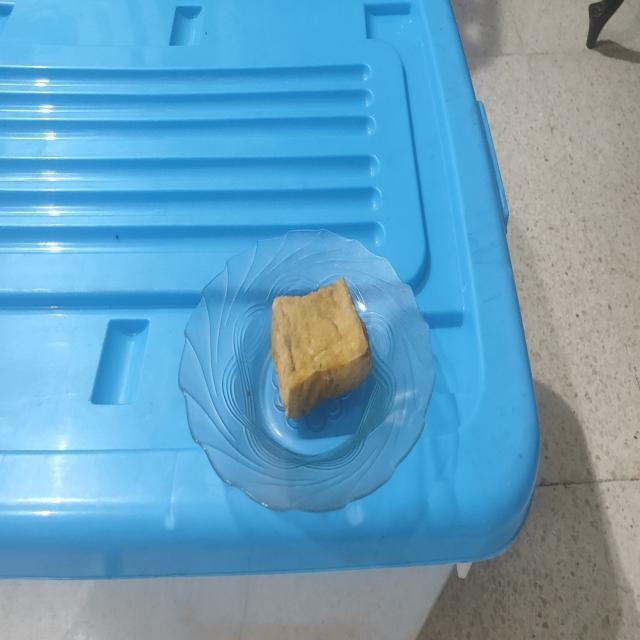tahu_goreng: (271, 278, 372, 420)
